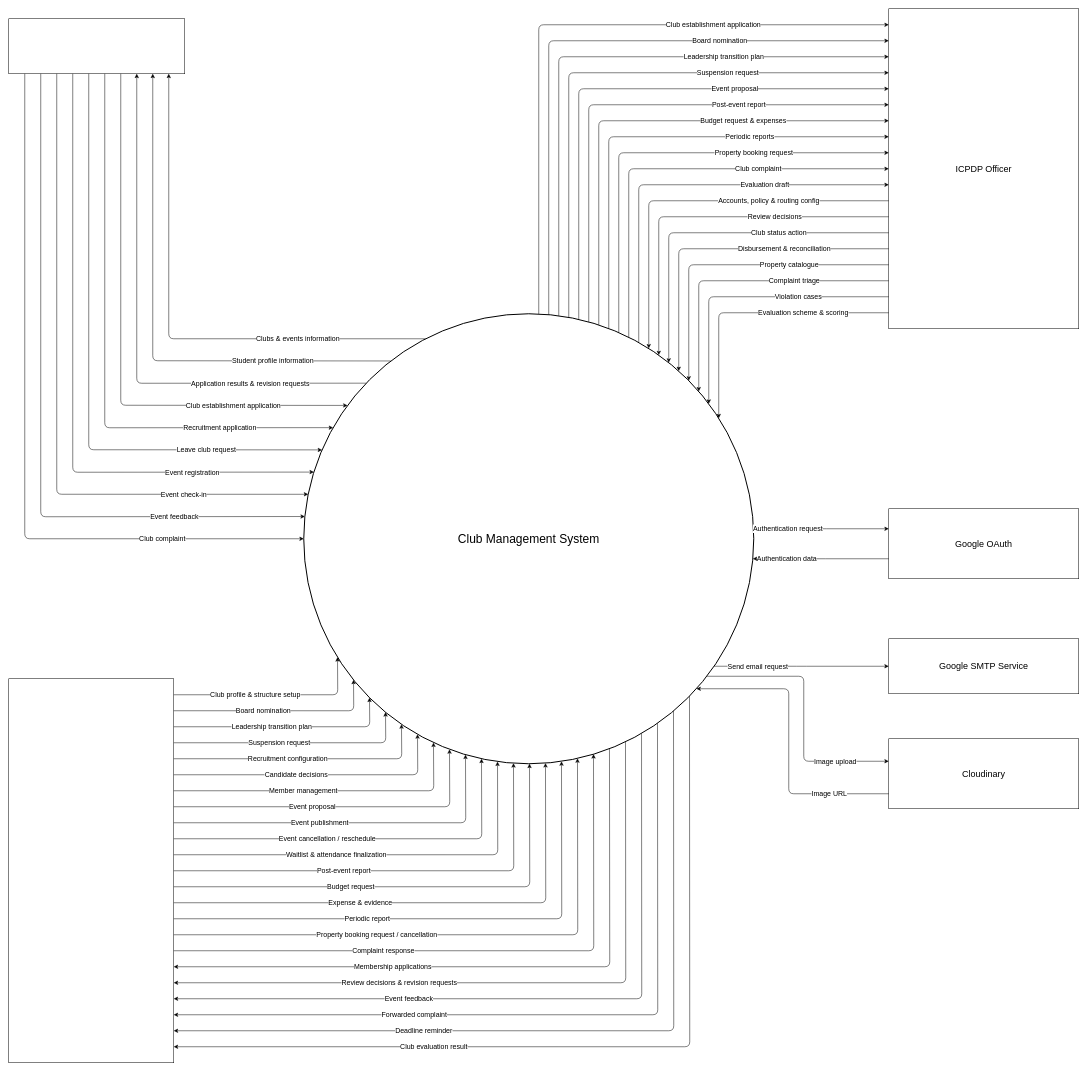
Some shapes in this 1088 by 1072 pixel diagram are drawn without their labels. Here are the shapes that lost their labels. From the top down, the centre of each, then its label:
the point at 96,46: Student
the point at 91,870: Club Management Board (CMB)
